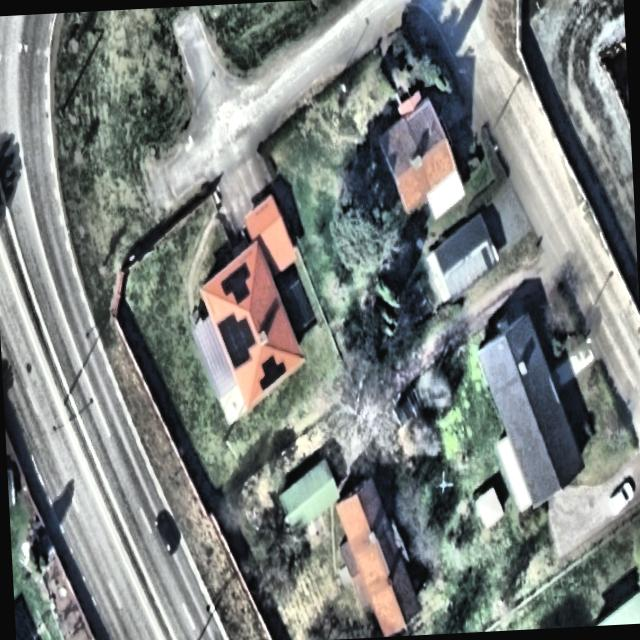roof_pv: (216, 308, 258, 372), (218, 258, 255, 308), (253, 352, 290, 391)
